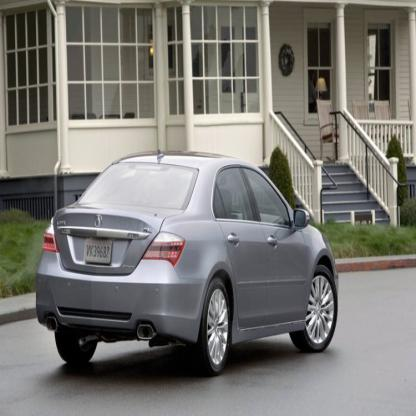Vehicle: (33, 147, 341, 377)
